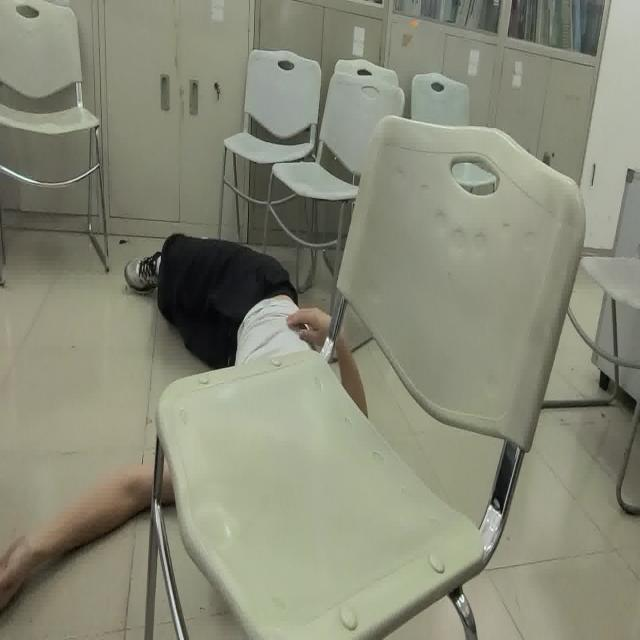Fall-Detected: (2, 238, 363, 616)
